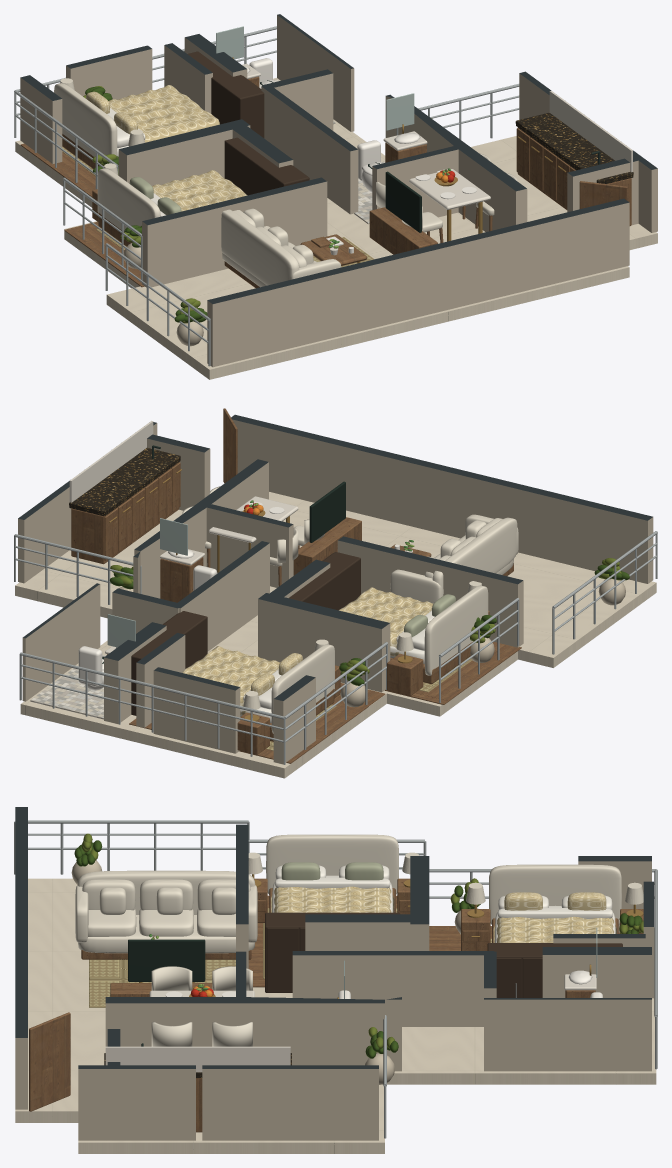
3 views of the same model, one above another, from view 1: azimuth 30°, elevation 25°; view 2: azimuth 150°, elevation 25°; view 3: azimuth 270°, elevation 25° (orthographic). The views are drawn at different scales.
Visible parts, largest first — view 1: Source-traced internal and perimeter walls • Wall, Continuous apartment foundation, Soft jacquard duvet with folds, Sofa back, Fitted dark wardrobe, Fitted dark wardrobe.001, Padded headboard, Deep green kitchen stone, Padded headboard.001, Soft jacquard duvet with folds.001, Backsplash, Walnut media console (+13 smaller); view 2: Source-traced internal and perimeter walls • Wall, Continuous apartment foundation, Padded headboard.001, Deep green kitchen stone, Fitted dark wardrobe.001, Sofa back, Soft jacquard duvet with folds, Soft jacquard duvet with folds.001, Fitted dark wardrobe, Backsplash, Bathroom mosaic floor, Base cabinets (+23 smaller); view 3: Source-traced internal and perimeter walls • Wall, Continuous apartment foundation, Padded headboard.001, Padded headboard, Backsplash, Oak entrance door, Soft jacquard duvet with folds.001, Television, Soft jacquard duvet with folds, Sofa back, Living patterned carpet, Walnut wardrobe door.004 (+35 smaller).
Part boxes in pixels (bbox=[...]): Source-traced internal and perimeter walls • Wall: bbox=[20, 14, 657, 367]; Continuous apartment foundation: bbox=[15, 78, 657, 379]; Soft jacquard duvet with folds: bbox=[108, 85, 219, 142]; Sofa back: bbox=[221, 209, 299, 285]; Fitted dark wardrobe: bbox=[187, 51, 264, 137]; Fitted dark wardrobe.001: bbox=[224, 137, 308, 195]; Padded headboard: bbox=[54, 83, 117, 156]; Deep green kitchen stone: bbox=[515, 112, 633, 183]; Padded headboard.001: bbox=[97, 168, 160, 232]; Soft jacquard duvet with folds.001: bbox=[152, 170, 247, 211]; Backsplash: bbox=[549, 90, 632, 172]; Walnut media console: bbox=[369, 207, 437, 254]; Source-traced internal and perimeter walls • Wall: bbox=[18, 414, 653, 764]; Continuous apartment foundation: bbox=[15, 492, 656, 778]; Padded headboard.001: bbox=[424, 585, 488, 675]; Deep green kitchen stone: bbox=[69, 447, 180, 514]; Fitted dark wardrobe.001: bbox=[289, 552, 360, 610]; Sofa back: bbox=[432, 517, 517, 595]; Soft jacquard duvet with folds: bbox=[182, 646, 280, 714]; Soft jacquard duvet with folds.001: bbox=[339, 587, 433, 656]; Fitted dark wardrobe: bbox=[131, 611, 207, 715]; Backsplash: bbox=[69, 420, 153, 502]; Bathroom mosaic floor: bbox=[30, 665, 103, 719]; Base cabinets: bbox=[71, 462, 179, 564]; Source-traced internal and perimeter walls • Wall: bbox=[15, 807, 653, 1140]; Continuous apartment foundation: bbox=[15, 878, 656, 1153]; Padded headboard.001: bbox=[266, 834, 398, 894]; Padded headboard: bbox=[489, 864, 621, 924]; Backsplash: bbox=[105, 1046, 290, 1072]; Oak entrance door: bbox=[29, 1012, 70, 1111]; Soft jacquard duvet with folds.001: bbox=[271, 886, 394, 912]; Television: bbox=[128, 939, 205, 981]; Soft jacquard duvet with folds: bbox=[493, 916, 616, 942]; Sofa back: bbox=[78, 870, 255, 914]; Living patterned carpet: bbox=[89, 959, 235, 1007]; Walnut wardrobe door.004: bbox=[267, 927, 298, 992].
Size of the model in its own units: 8.96 by 1.7 by 9.15.
Materials: 26 (6 with a texture image).
